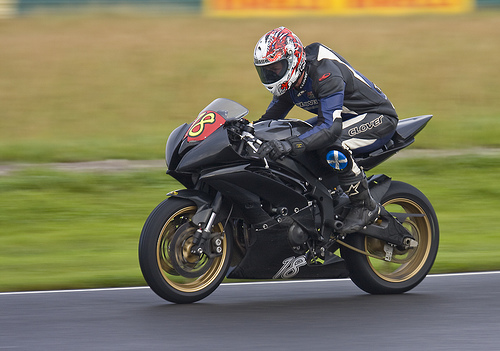helmet: (247, 25, 307, 95)
